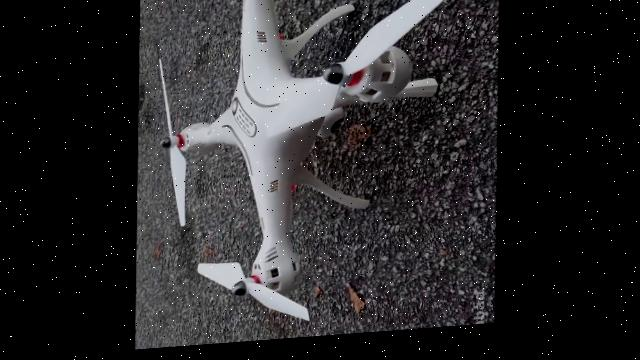drone: (152, 0, 467, 334)
